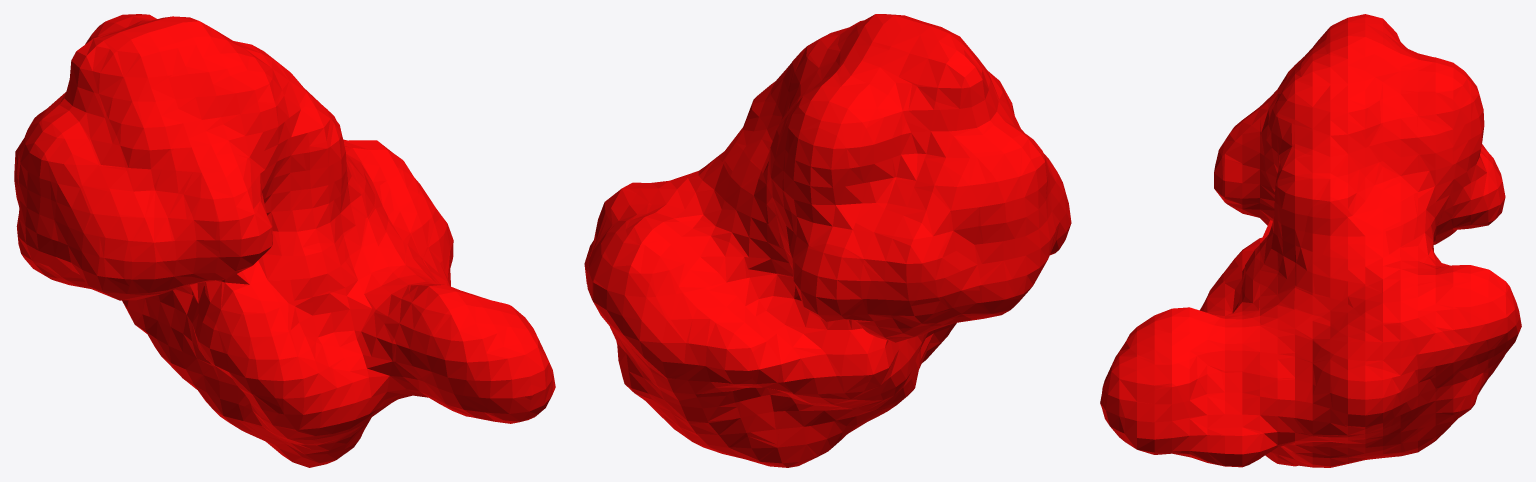
Rendered from ghrB_coarse.dae.
The picture shows the model from 3 angles, left to right: view 1: azimuth 30°, elevation 25°; view 2: azimuth 150°, elevation 25°; view 3: azimuth 270°, elevation 25°; orthographic projection. The views are drawn at different scales.
Visible parts, largest first — view 1: ghrB; view 2: ghrB; view 3: ghrB.
Part boxes in pixels (box(x1,y1,x2,y2)): ghrB: box(14, 14, 555, 467); ghrB: box(584, 14, 1071, 467); ghrB: box(1100, 14, 1521, 467).
Size of the model in its own units: 62.02 by 61.71 by 61.7.
